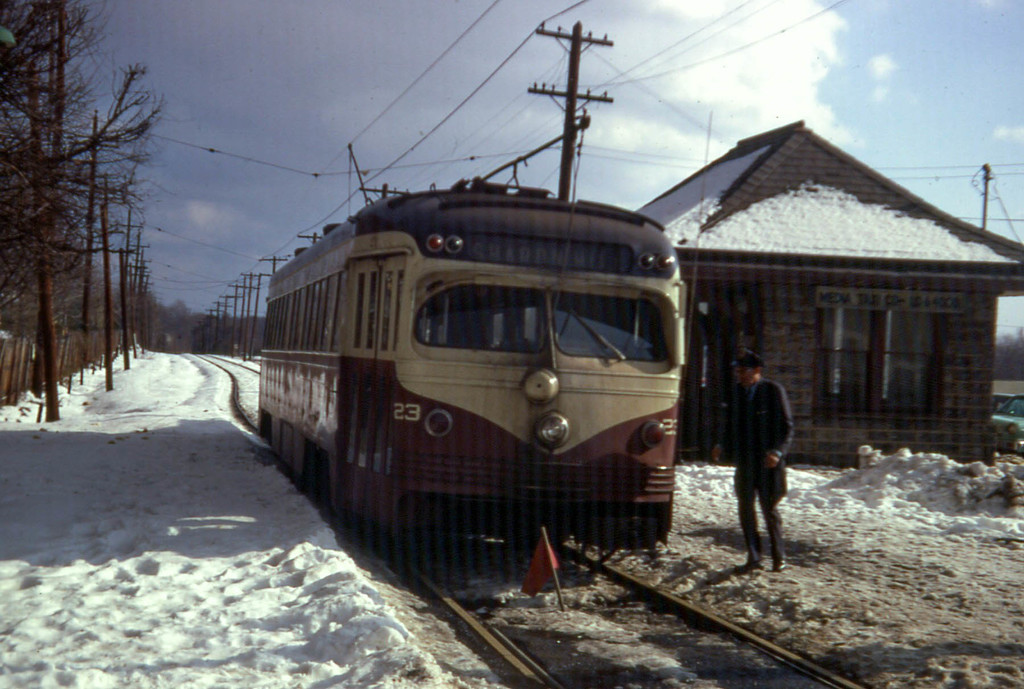train: (258, 142, 686, 564)
